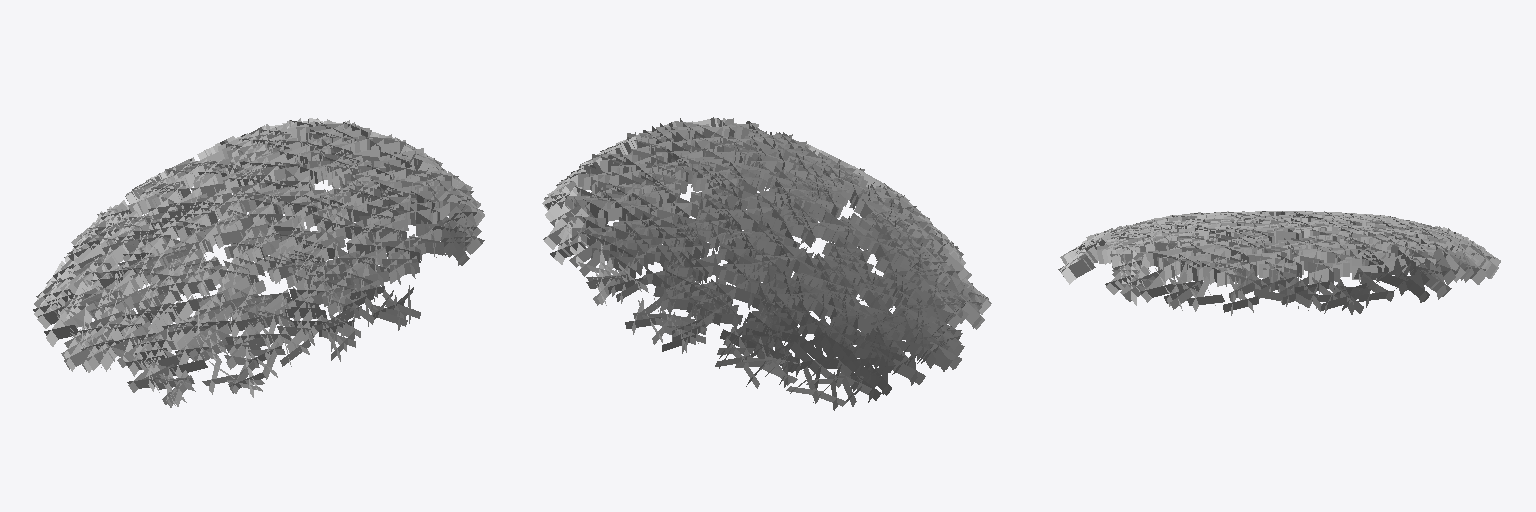
File: sm_2x_hillCliff_grass.OBJ
The picture shows the model from 3 angles: view 1: azimuth 30°, elevation 25°; view 2: azimuth 150°, elevation 25°; view 3: azimuth 270°, elevation 25°; orthographic projection.
Parts seen in each view (by area): view 1: ZBrushPolyMesh3D; view 2: ZBrushPolyMesh3D; view 3: ZBrushPolyMesh3D.
Part boxes in pixels (x1,y1,x2,y2): ZBrushPolyMesh3D: (33, 118, 484, 407); ZBrushPolyMesh3D: (542, 117, 991, 410); ZBrushPolyMesh3D: (1058, 211, 1500, 315).
Size of the model in its own units: 9.76 by 3.37 by 9.75.